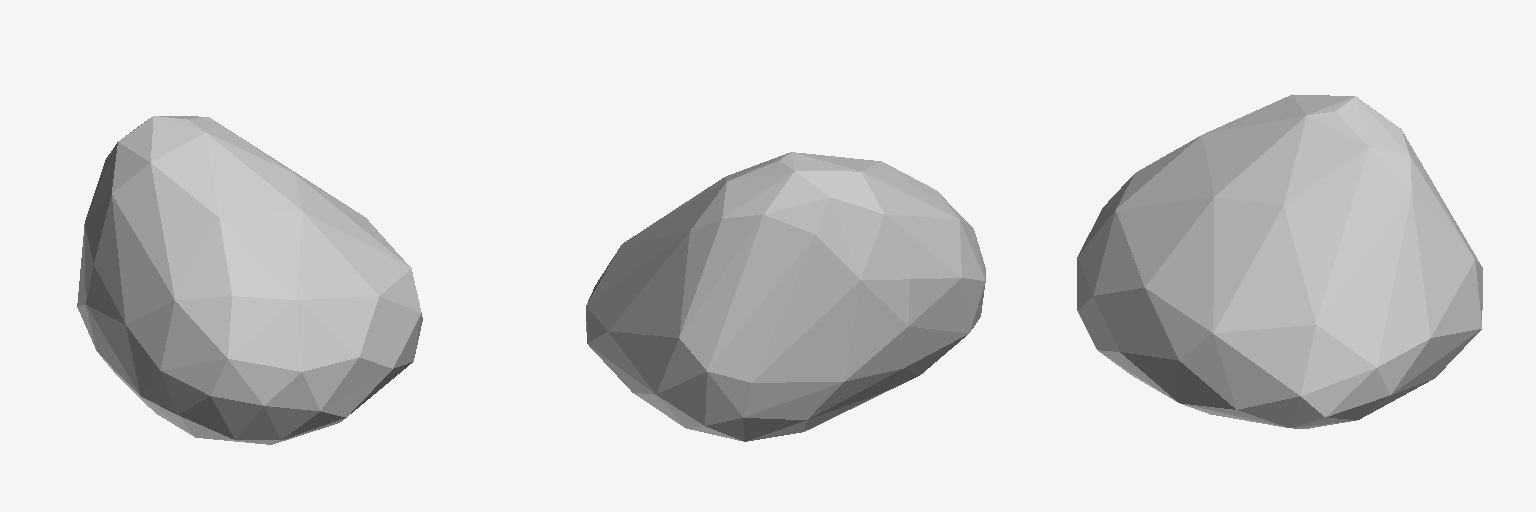
File: rock_01.obj
3 views of the same model, side by side, from view 1: azimuth 30°, elevation 25°; view 2: azimuth 150°, elevation 25°; view 3: azimuth 270°, elevation 25° (orthographic).
Parts seen in each view (by area): view 1: Icosphere; view 2: Icosphere; view 3: Icosphere.
Part boxes in pixels (bbox=[...]): Icosphere: bbox=[77, 116, 422, 444]; Icosphere: bbox=[586, 152, 985, 441]; Icosphere: bbox=[1077, 94, 1482, 428].
Bounding box in the file's own units: 1.56 × 1.18 × 1.69.